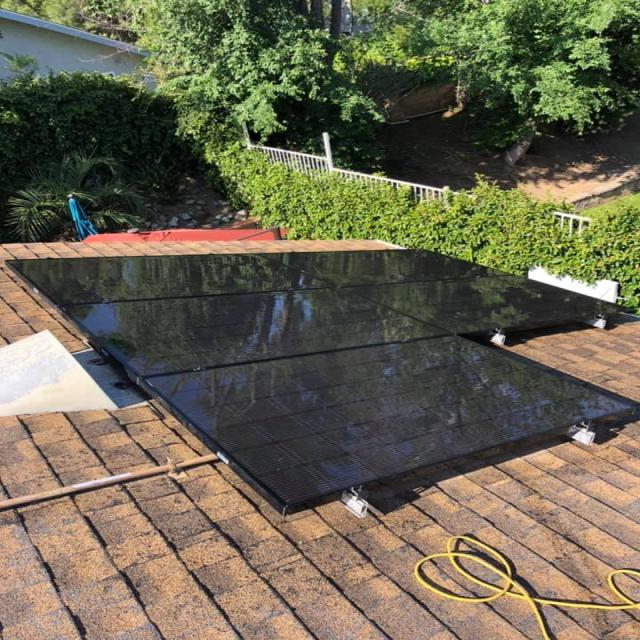clean-solar-panel: (10, 250, 634, 512)
